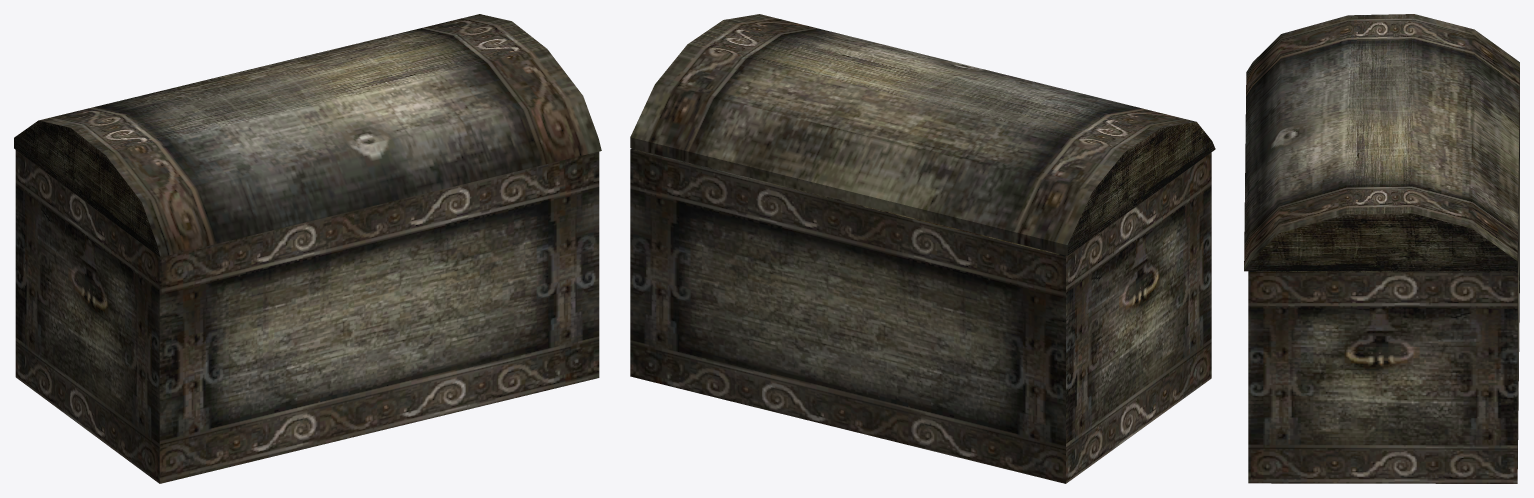
File: chest_small.dae
The picture shows the model from 3 angles, left to right: view 1: azimuth 30°, elevation 25°; view 2: azimuth 150°, elevation 25°; view 3: azimuth 270°, elevation 25°; orthographic projection. The views are drawn at different scales.
Visible parts, largest first — view 1: box, lock; view 2: box, lock; view 3: lock, box.
Boxes of the visible parts, bbox=[...] form: box: bbox=[15, 150, 599, 483]; lock: bbox=[14, 14, 601, 257]; box: bbox=[630, 148, 1211, 483]; lock: bbox=[630, 14, 1215, 255]; lock: bbox=[1244, 14, 1519, 271]; box: bbox=[1248, 83, 1519, 483].
Size of what is drawn, in the model's own units: 0.8577 by 0.5419 by 0.5007.
